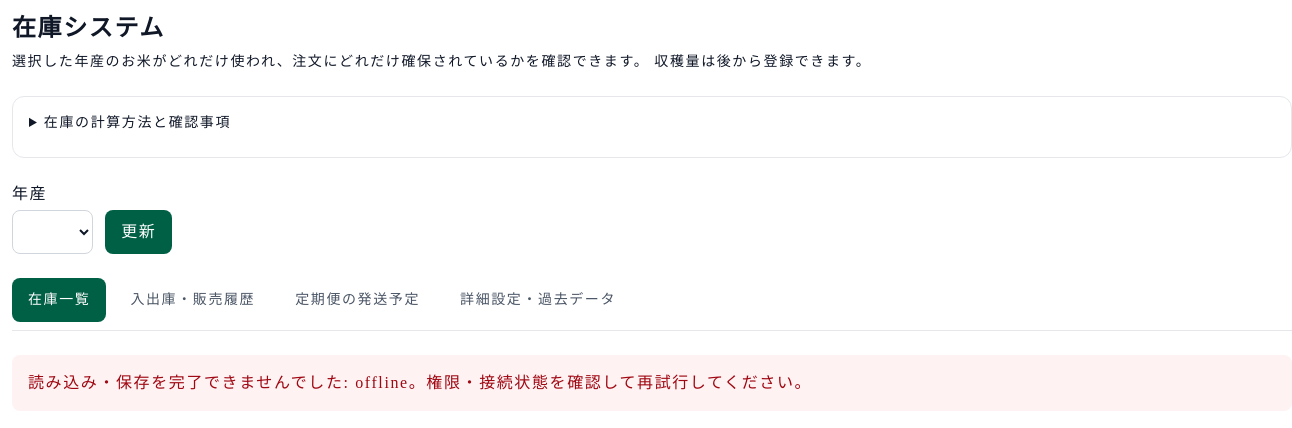
it: legacy inventory fallback › does not fall back for a rejected network request or denied report
Check: the message "読み込み・保存を完了できませんでした: offline。権限・接続状態を確認して再試行してください。" is shown, box [12,355,1291,411]
Click the button "更新".
click(139, 232)  # box [105,210,172,254]
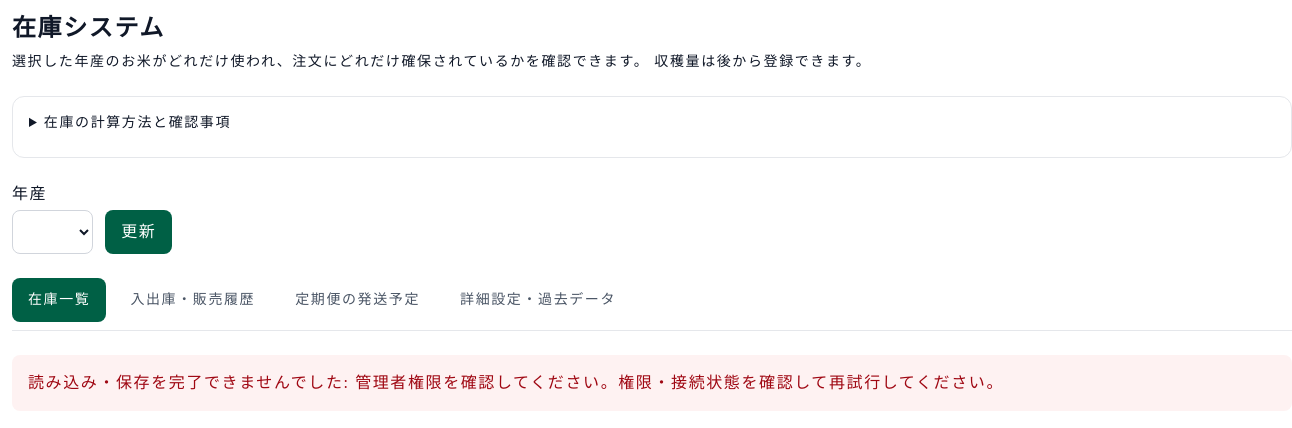
Check: the text "読み込み・保存を完了できませんでした: 管理者権限を確認してください。権限・接続状態を確認して再試行してください。" is shown, box [12,355,1291,411]
